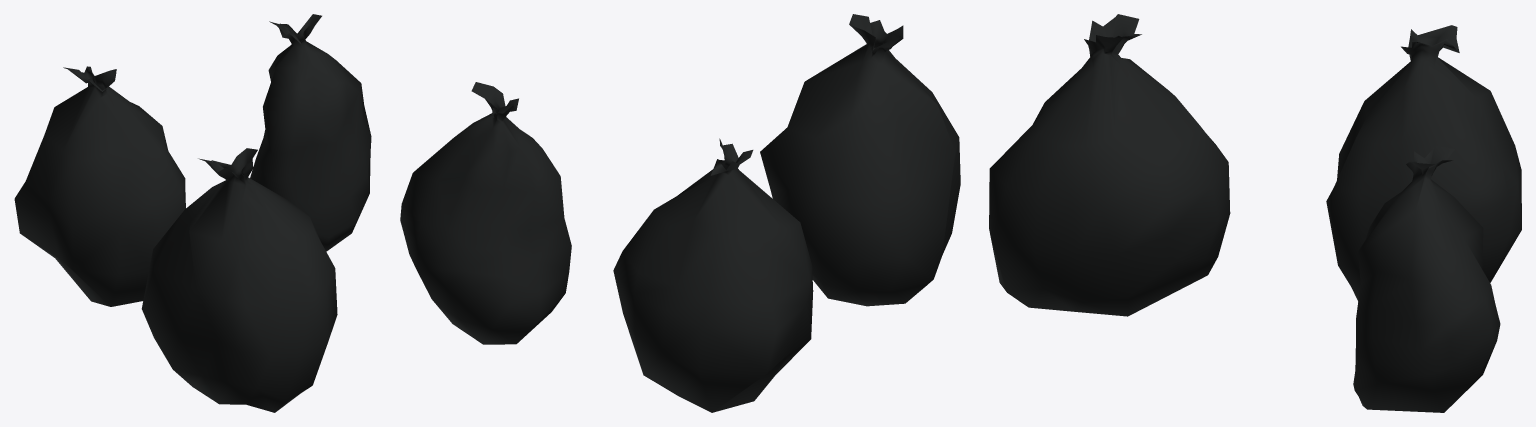
File: garbage.glb
The picture shows the model from 3 angles, left to right: view 1: azimuth 30°, elevation 25°; view 2: azimuth 150°, elevation 25°; view 3: azimuth 270°, elevation 25°; orthographic projection. The views are drawn at different scales.
Visible parts, largest first — view 1: GarbageBag2.001, GarbageBag1.001, GarbageBag3.001; view 2: GarbageBag2.001, GarbageBag1.001, GarbageBag3.001; view 3: GarbageBag2.001, GarbageBag3.001, GarbageBag1.001.
Boxes of the visible parts, bbox=[...] form: GarbageBag2.001: bbox=[141, 148, 337, 412]; GarbageBag1.001: bbox=[14, 66, 185, 306]; GarbageBag3.001: bbox=[250, 14, 371, 251]; GarbageBag2.001: bbox=[760, 14, 960, 306]; GarbageBag1.001: bbox=[613, 138, 813, 412]; GarbageBag3.001: bbox=[400, 82, 571, 344]; GarbageBag2.001: bbox=[989, 14, 1230, 316]; GarbageBag3.001: bbox=[1353, 145, 1500, 412]; GarbageBag1.001: bbox=[1326, 25, 1521, 301].
Size of the model in its own units: 3.19 by 2.17 by 3.67.
Materials: 1 (1 with a texture image).
